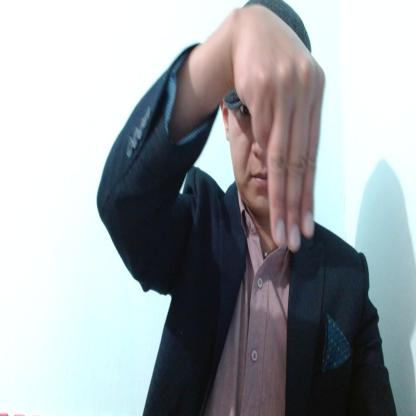M: (236, 6, 324, 250)
